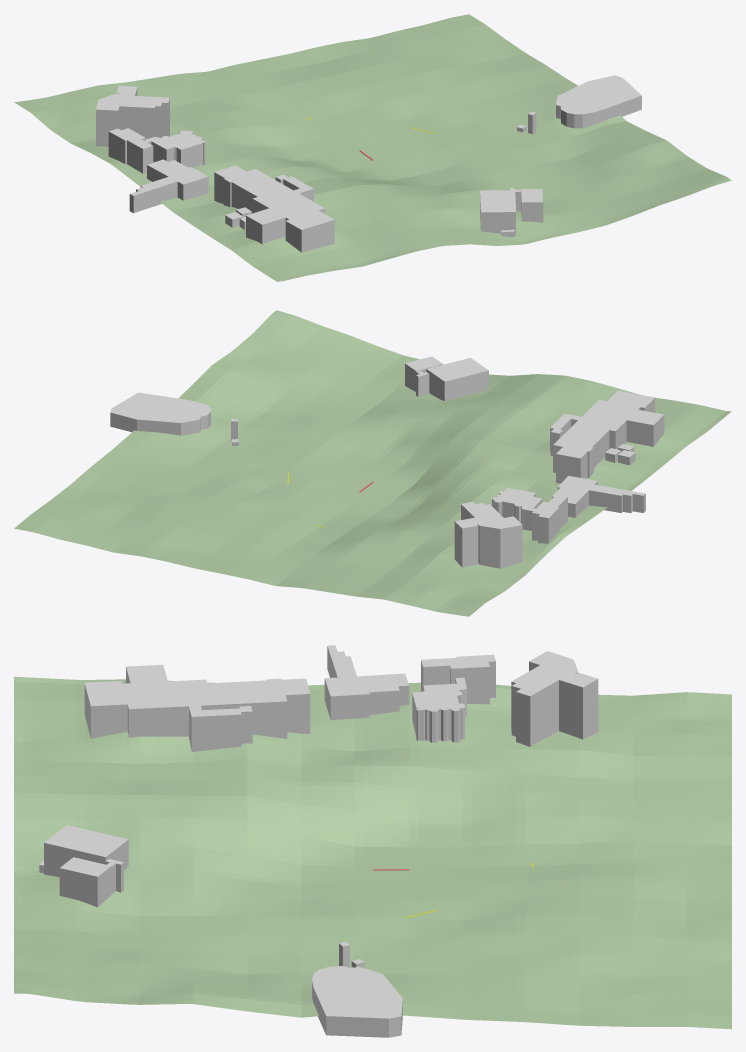
The model's file is devrim_ref.glb.
3 renders of one model, top to bottom at view 1: azimuth 30°, elevation 25°; view 2: azimuth 150°, elevation 25°; view 3: azimuth 270°, elevation 25°, orthographic. The views are drawn at different scales.
Visible parts, largest first — view 1: ARAZI, KOMSU_BINALAR; view 2: ARAZI, KOMSU_BINALAR; view 3: ARAZI, KOMSU_BINALAR.
Part boxes in pixels (<box>): ARAZI: <box>14,14,731,281</box>; KOMSU_BINALAR: <box>96,75,641,252</box>; ARAZI: <box>14,310,731,616</box>; KOMSU_BINALAR: <box>110,356,664,568</box>; ARAZI: <box>14,676,731,1029</box>; KOMSU_BINALAR: <box>39,645,598,1037</box>.
Size of the model in its own units: 450 by 51.81 by 400.
